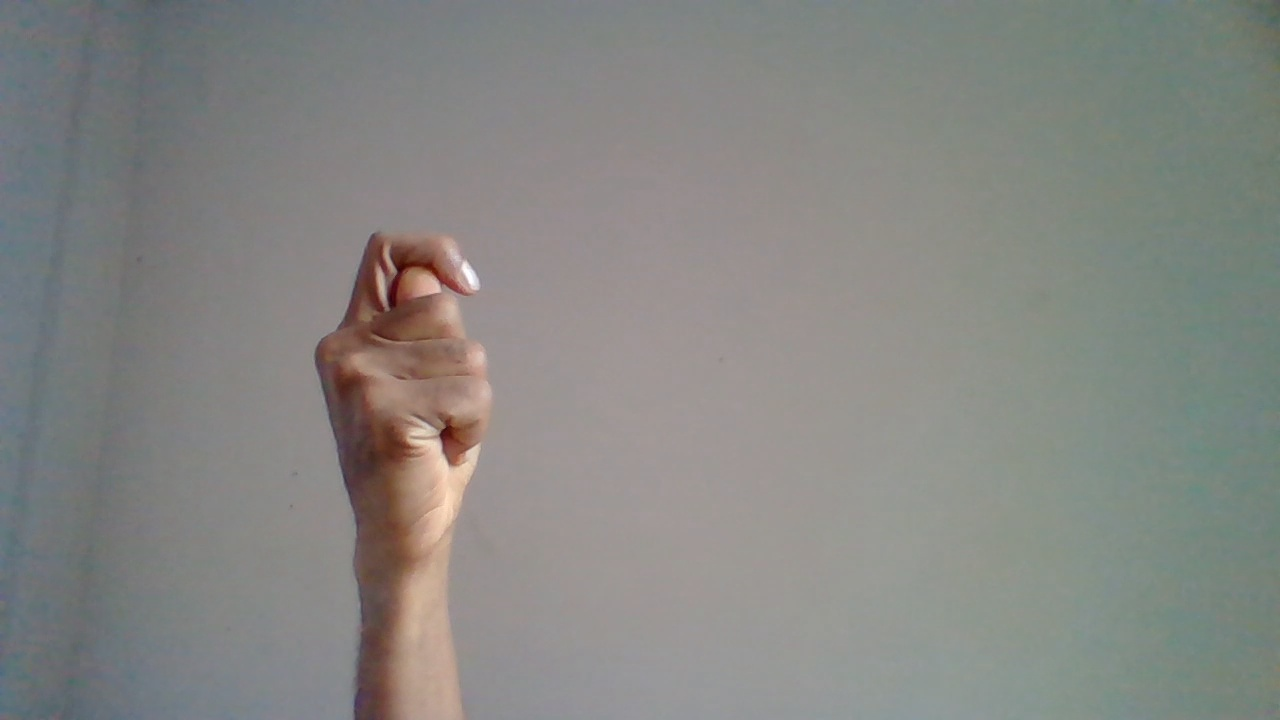che: (313, 224, 493, 691)
